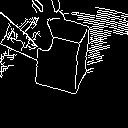cube: (31, 19, 94, 95)
